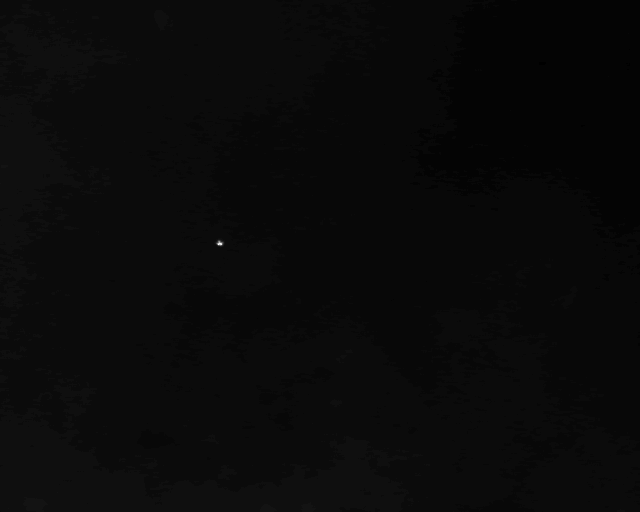Target: (217, 241, 225, 247)
